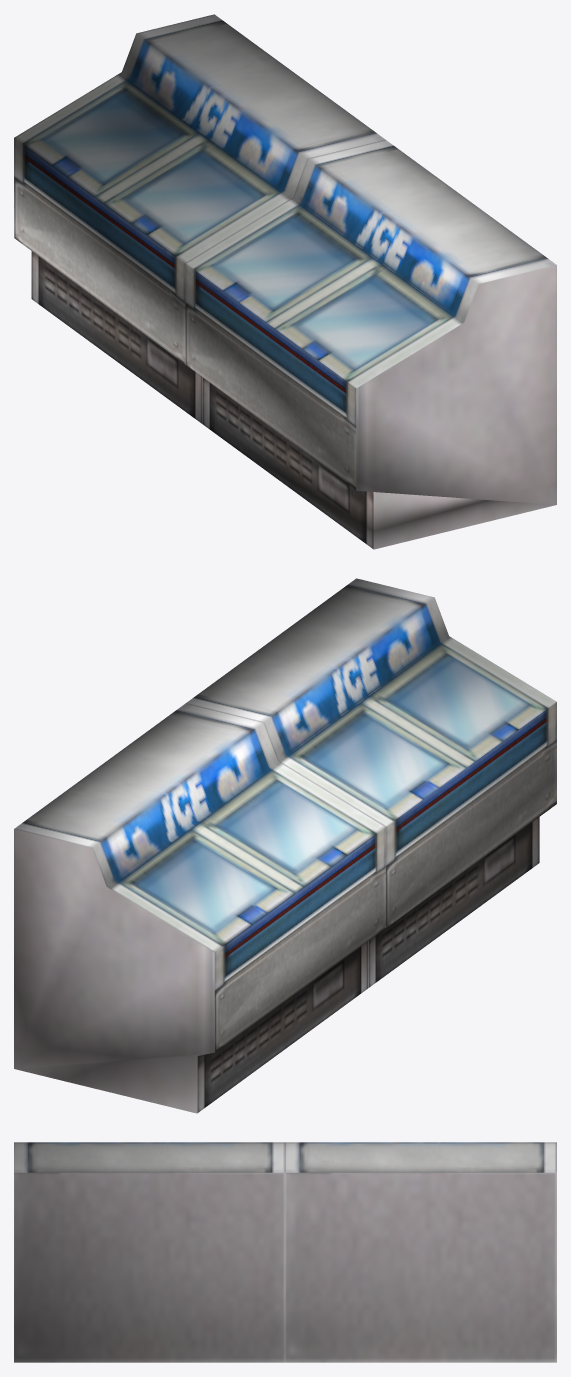
The model's file is a_SWIbooth01_b.glb.
3 views of the same model, one above another, from view 1: azimuth 30°, elevation 25°; view 2: azimuth 150°, elevation 25°; view 3: azimuth 270°, elevation 25° (orthographic). The views are drawn at different scales.
Visible parts, largest first — view 1: a_SWIbooth01_b; view 2: a_SWIbooth01_b; view 3: a_SWIbooth01_b.
Boxes of the visible parts, bbox=[...] form: a_SWIbooth01_b: bbox=[14, 14, 556, 549]; a_SWIbooth01_b: bbox=[14, 578, 556, 1113]; a_SWIbooth01_b: bbox=[14, 1142, 556, 1362].
Size of the model in its own units: 0.7202 by 0.8234 by 2.13.
1 material, 1 textured.
